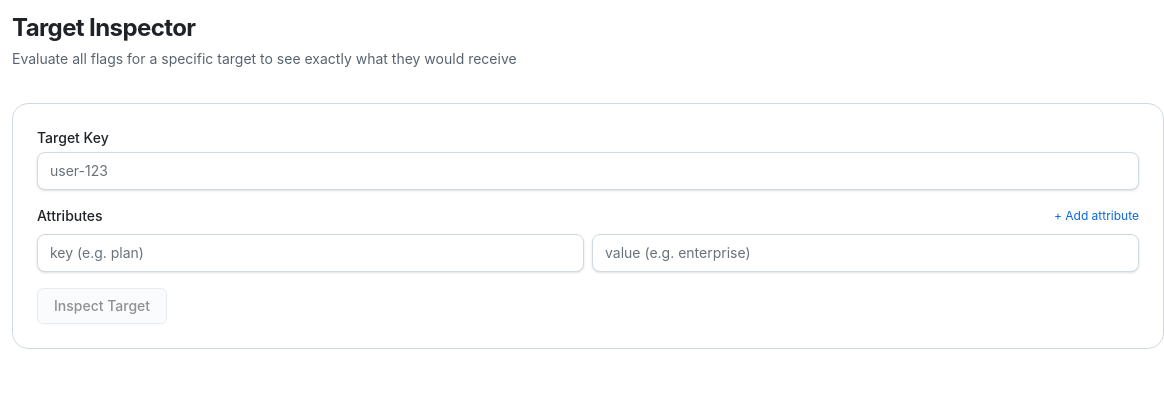
Test: TargetInspectorPage › remove attribute button removes row
Click the button "+ Add attribute" at (1096, 216), box 1054,208 -> 1139,224
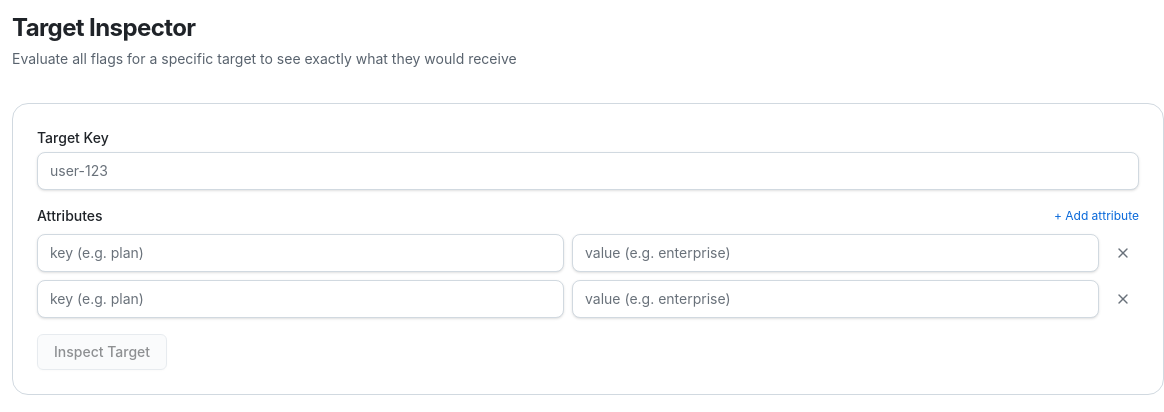
Check: the number of fields with placeholder "key (e.g. plan)" is 2, box 37,234 -> 564,272; 37,280 -> 564,318
Click the 2nd button at (1123, 253), box 1107,237 -> 1139,269
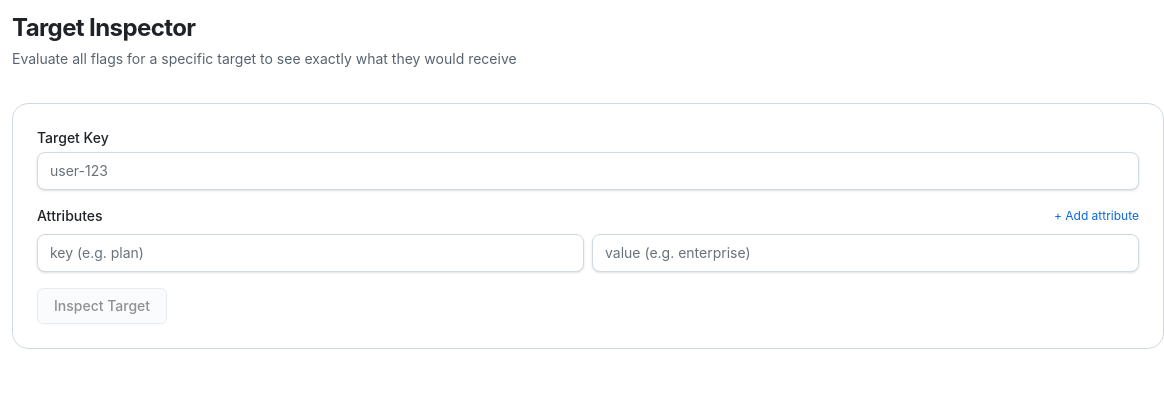
Check: the number of fields with placeholder "key (e.g. plan)" is 1, box 37,234 -> 584,272
